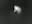person: (14, 6, 24, 17)
